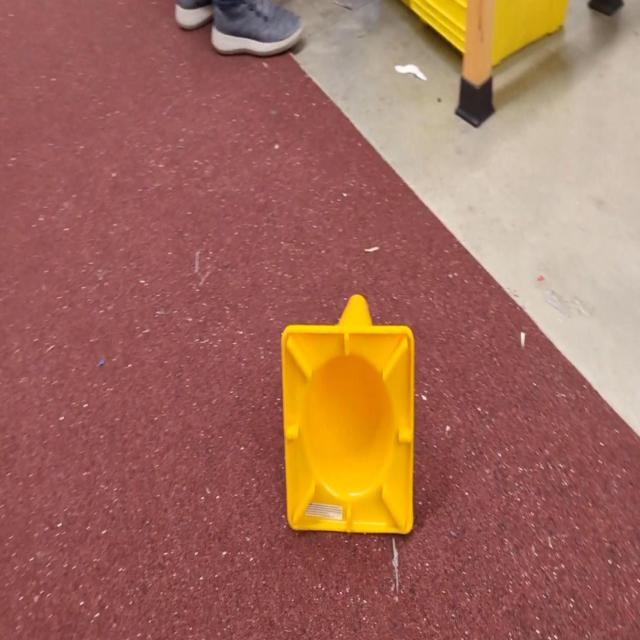frc_cone: (281, 295, 413, 533)
